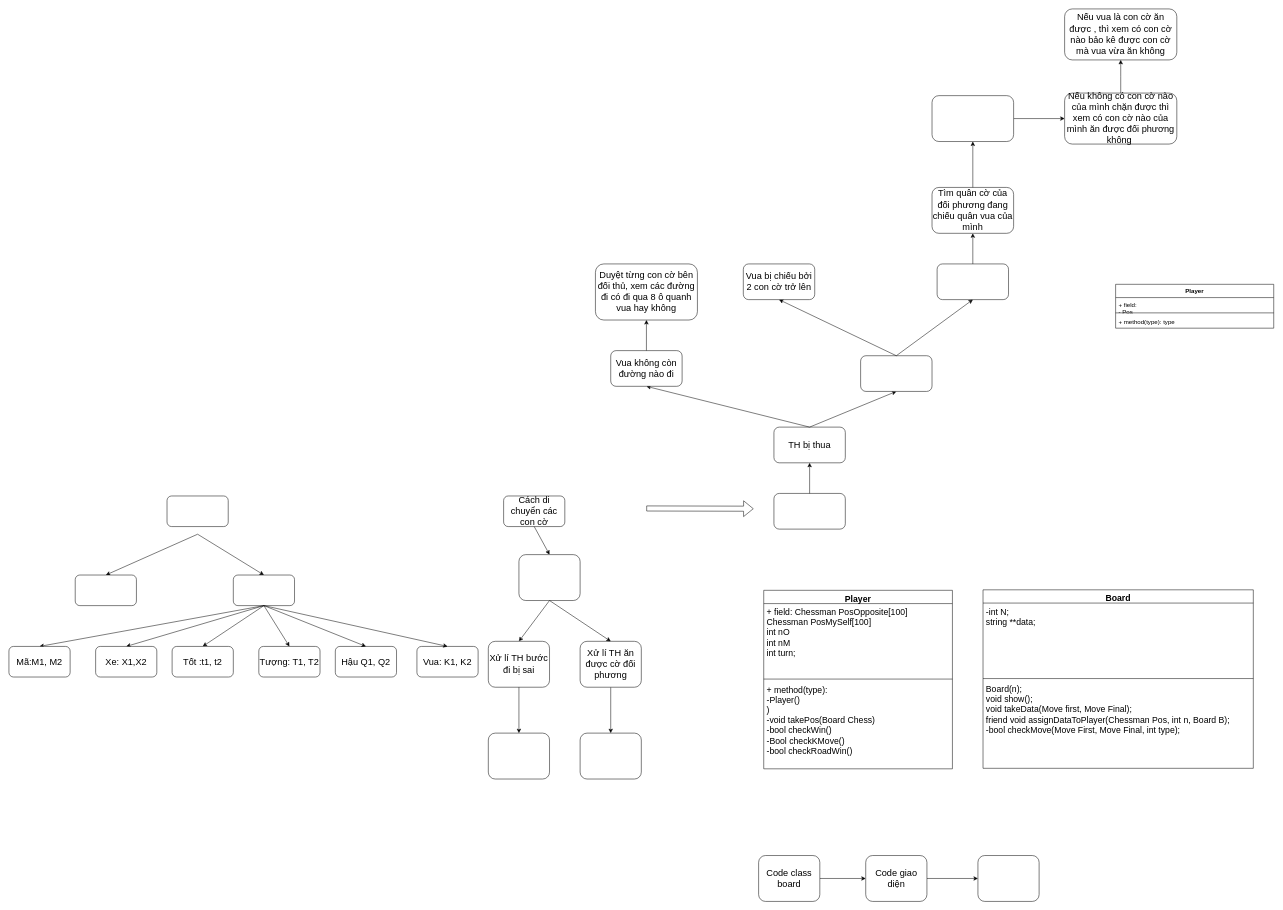
Some shapes in this 1283 by 910 pixel diagram are drawn without their labels. Here are the shapes that lost their labels. From the top down, the centre of each, then its label:
At point 973,118: "Xét trên quỹ đạo đường đi của con cờ".
At point 973,281: "Vua bị chiếu bởi 1 con".
At point 896,373: "Vua đang bị chiếu".
At point 197,511: "Tạo giao diện bàn cờ".
At point 809,511: "Check xem nước đi hiện tại thắng hay chưa".
At point 105,590: "Tạo ma trân 8x8".
At point 264,590: "Kí hiệu các con cờ".
At point 549,577: "Cho nhập first pos and final pos để di chuyển con cờ".
At point 519,756: "Đưa vào một hàm check để xét xem bước đi đó đúng hay sai".
At point 610,756: "Đổi vị trí đó thành con cờ đang đi".
At point 1008,878: "Code player".
